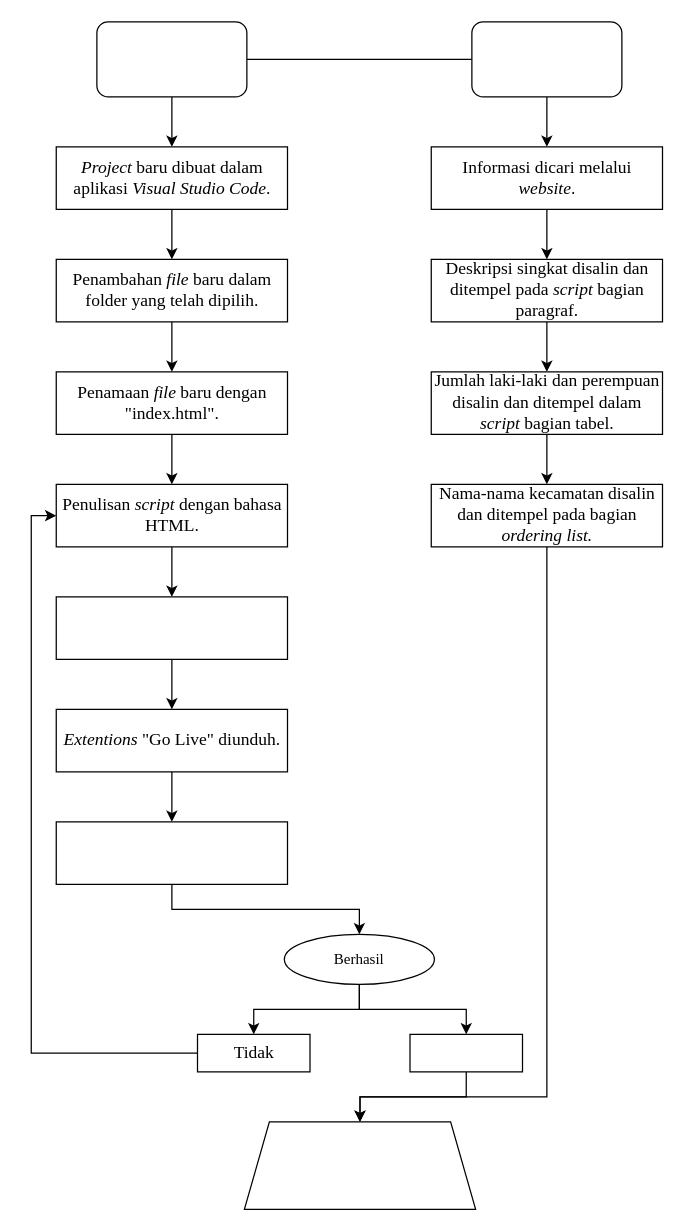
This 684x1231 diagram has some shape labels left out. Here are the shapes that lost their labels. From the top down, the centre of each, then its label:
At (x=171, y=59): "Script".
At (x=546, y=59): "Informasi umum Yogyakarta".
At (x=171, y=627): "Penambahan elemen judul, sub judul, deskripsi, tabel, dan list".
At (x=171, y=852): "Penjalanan program.".
At (x=465, y=1052): "Ya".
At (x=359, y=1165): "Tampilan halaman HTML sederhana profil daerah Yogyakarta.".
